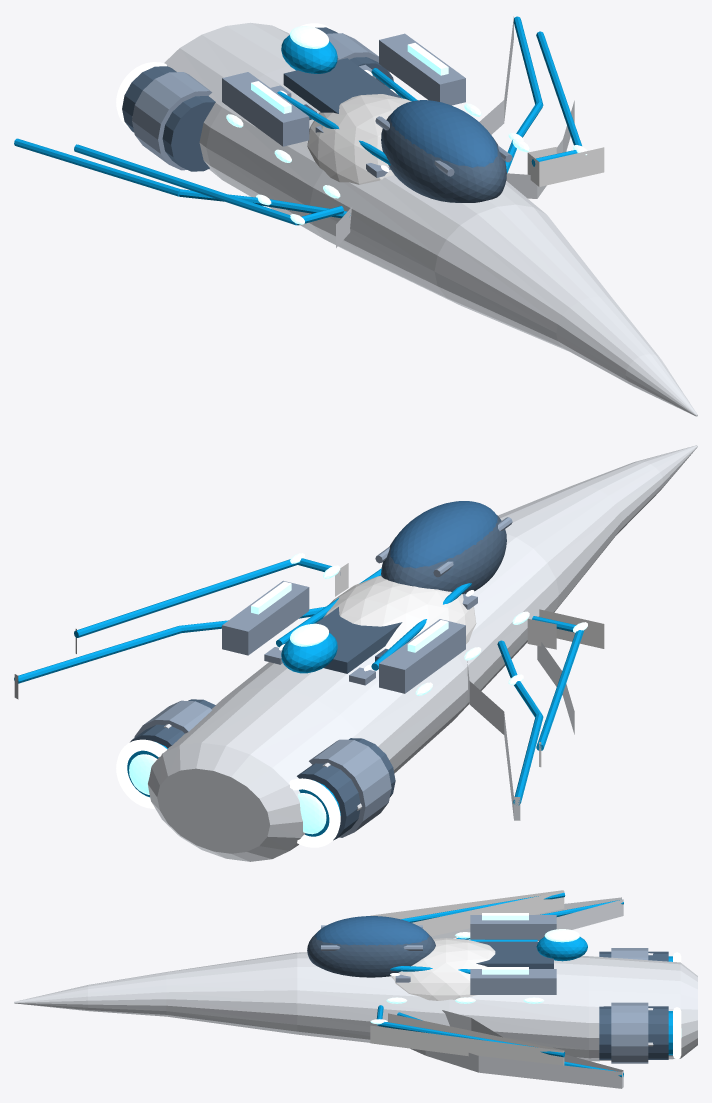
The model's file is SL_PIONEER_FINAL.glb.
The picture shows the model from 3 angles, top to bottom: view 1: azimuth 30°, elevation 25°; view 2: azimuth 150°, elevation 25°; view 3: azimuth 270°, elevation 25°; orthographic projection. The views are drawn at different scales.
Parts seen in each view (by area): view 1: PIONEER_hull, PIONEER_dark, PIONEER_steel, PIONEER_accent, PIONEER_ivory, PIONEER_glass, PIONEER_neon, PIONEER_hot; view 2: PIONEER_hull, PIONEER_steel, PIONEER_accent, PIONEER_dark, PIONEER_ivory, PIONEER_glass, PIONEER_neon, PIONEER_hot; view 3: PIONEER_hull, PIONEER_ivory, PIONEER_steel, PIONEER_dark, PIONEER_accent, PIONEER_glass, PIONEER_neon, PIONEER_hot.
Part boxes in pixels (x1,y1,x2,y2): PIONEER_hull: [132, 16, 697, 416]; PIONEER_dark: [122, 27, 506, 202]; PIONEER_steel: [132, 33, 533, 177]; PIONEER_accent: [14, 16, 581, 225]; PIONEER_ivory: [307, 94, 604, 186]; PIONEER_glass: [390, 100, 497, 167]; PIONEER_neon: [226, 26, 587, 224]; PIONEER_hot: [116, 23, 397, 171]; PIONEER_hull: [14, 445, 697, 861]; PIONEER_steel: [134, 517, 512, 837]; PIONEER_accent: [14, 558, 584, 836]; PIONEER_dark: [130, 515, 506, 840]; PIONEER_ivory: [75, 563, 604, 767]; PIONEER_glass: [390, 501, 497, 568]; PIONEER_neon: [129, 553, 587, 834]; PIONEER_hot: [116, 590, 474, 847]; PIONEER_hull: [14, 897, 697, 1088]; PIONEER_ivory: [370, 890, 564, 1065]; PIONEER_steel: [321, 915, 648, 1063]; PIONEER_dark: [307, 934, 668, 1059]; PIONEER_accent: [376, 892, 672, 1077]; PIONEER_glass: [314, 916, 429, 945]; PIONEER_neon: [370, 913, 681, 1037]; PIONEER_hot: [390, 952, 681, 1059].
Size of the model in its own units: 4.66 by 1.65 by 7.69.
